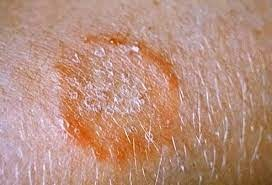Ringworm: (46, 30, 196, 165)
